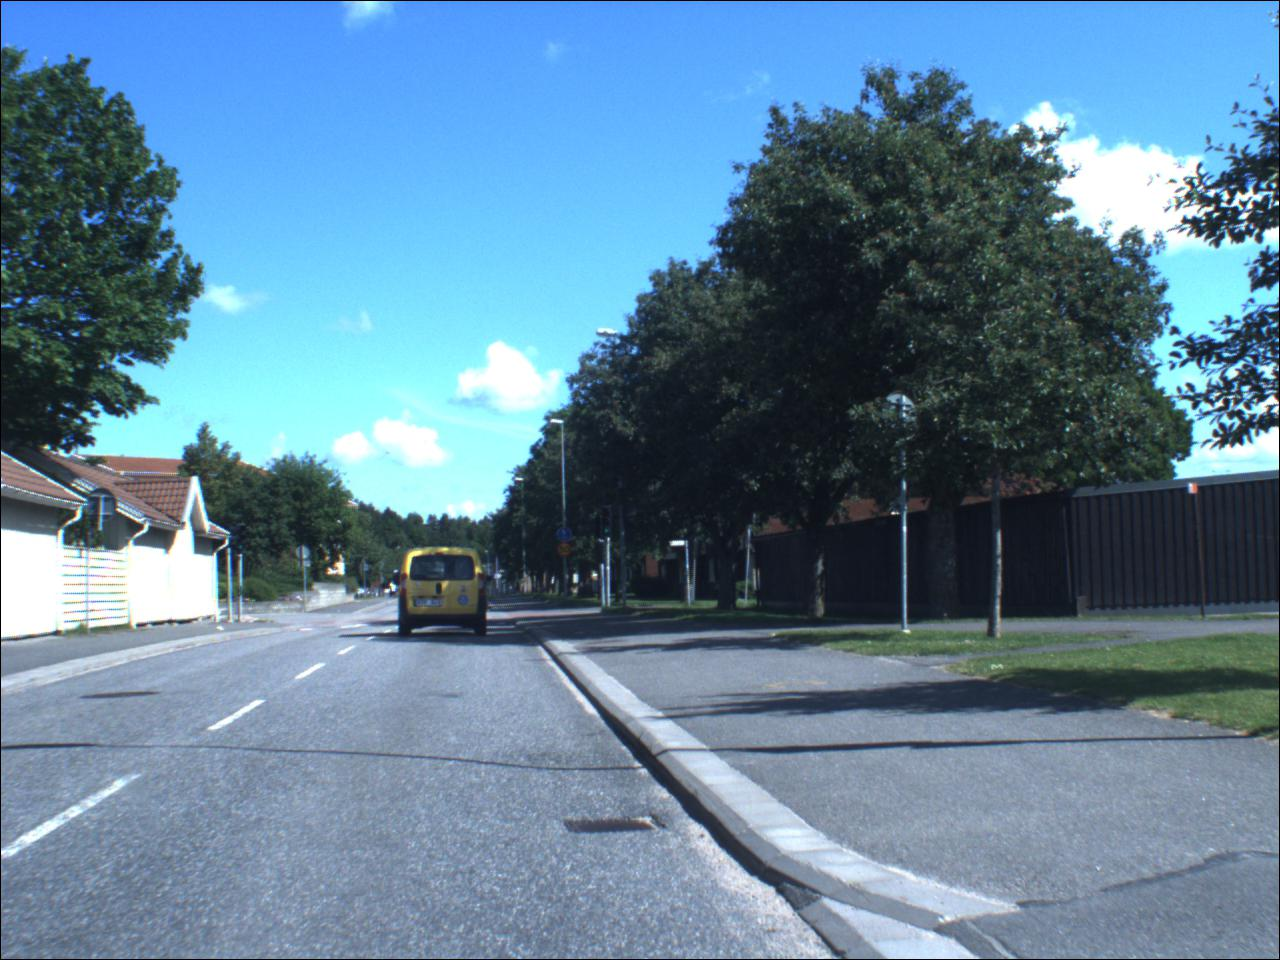PRIORITY_ROAD: (559, 544, 575, 558)
